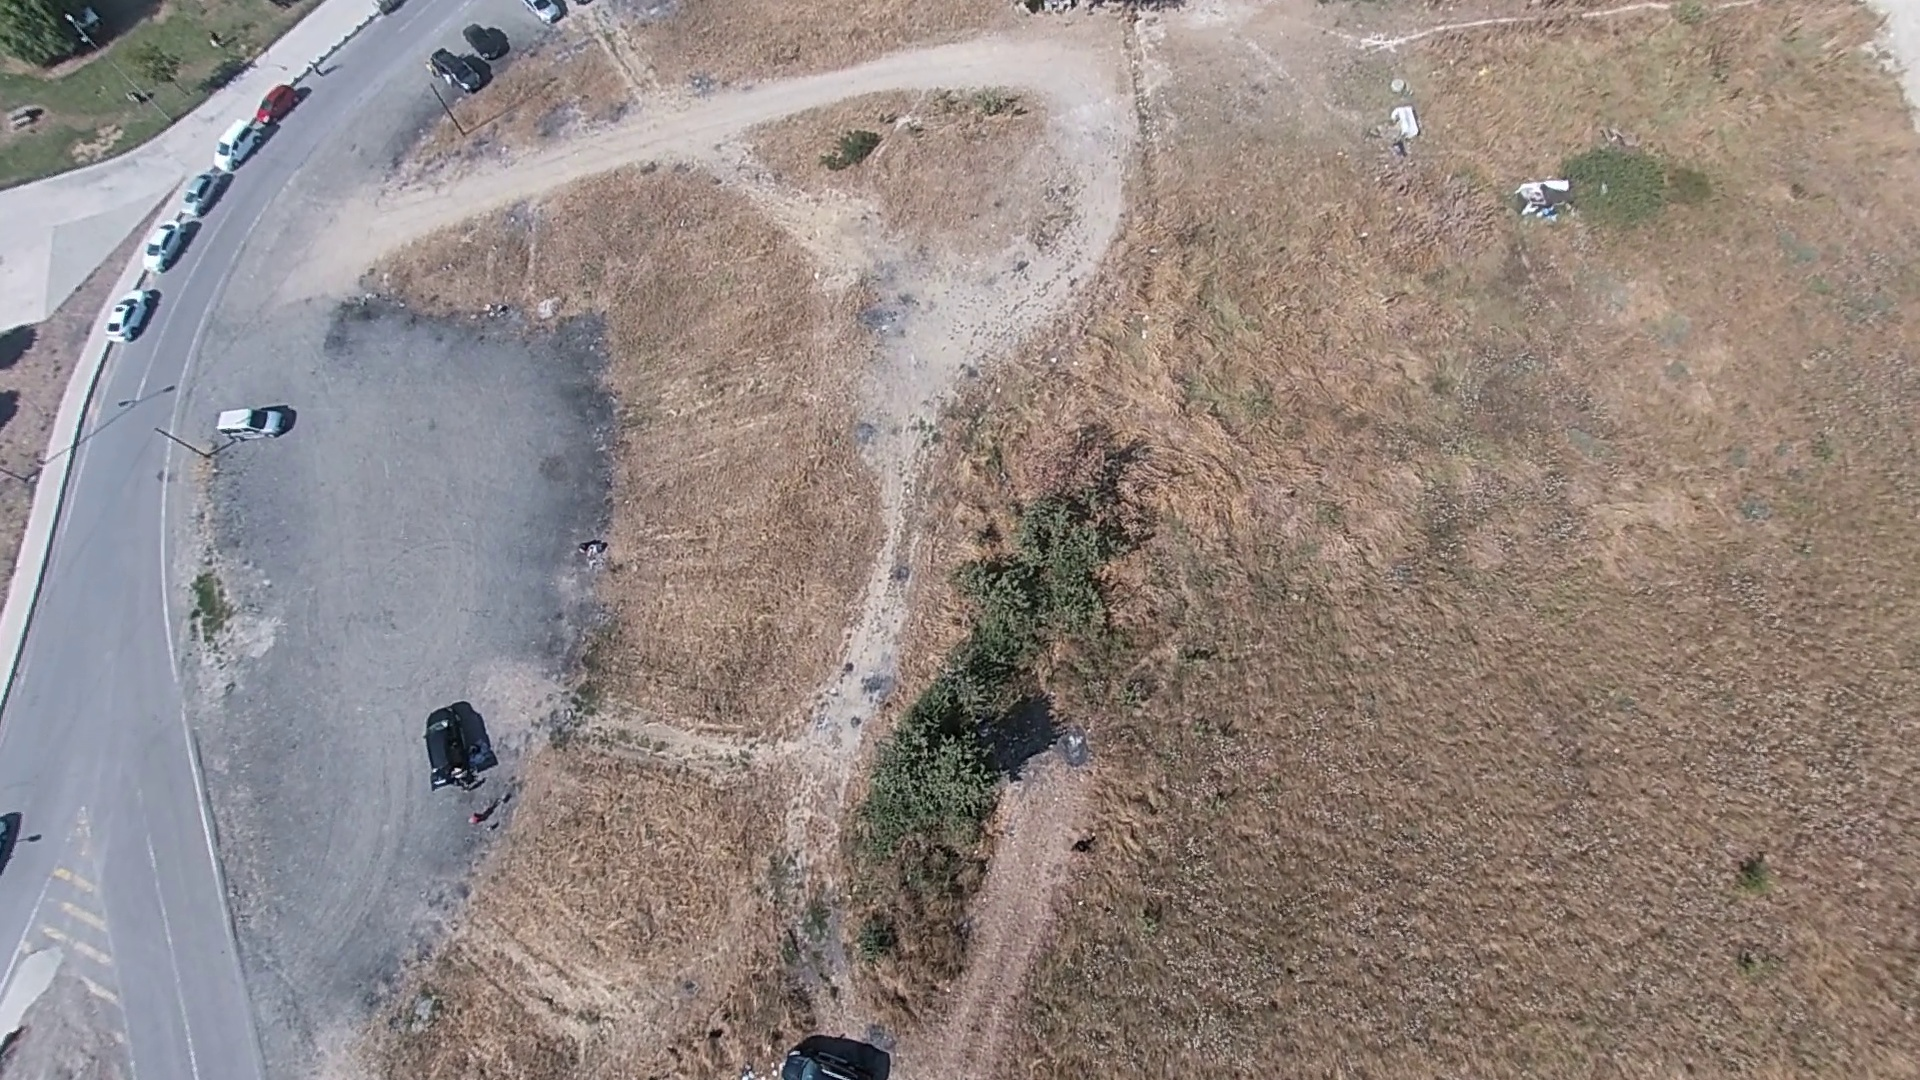arac: (420, 698, 498, 794), (211, 402, 293, 436)
insan: (1514, 179, 1567, 222), (1390, 105, 1420, 156)
